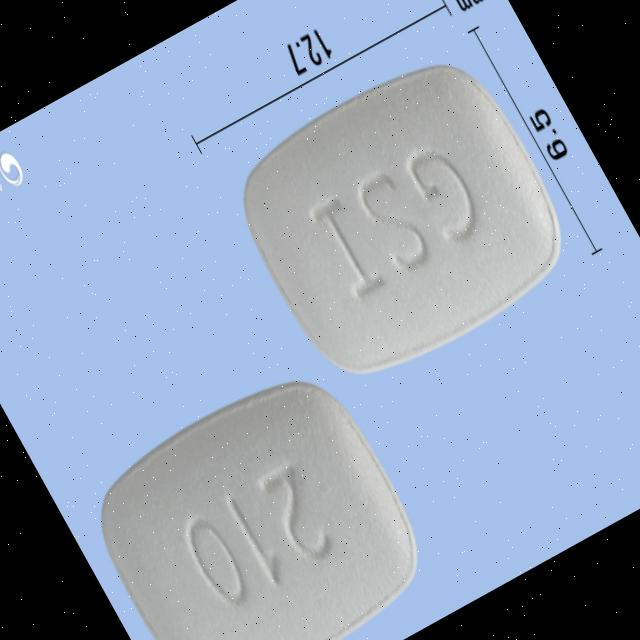Descovy -25mg: (213, 34, 593, 406), (69, 350, 447, 640)
